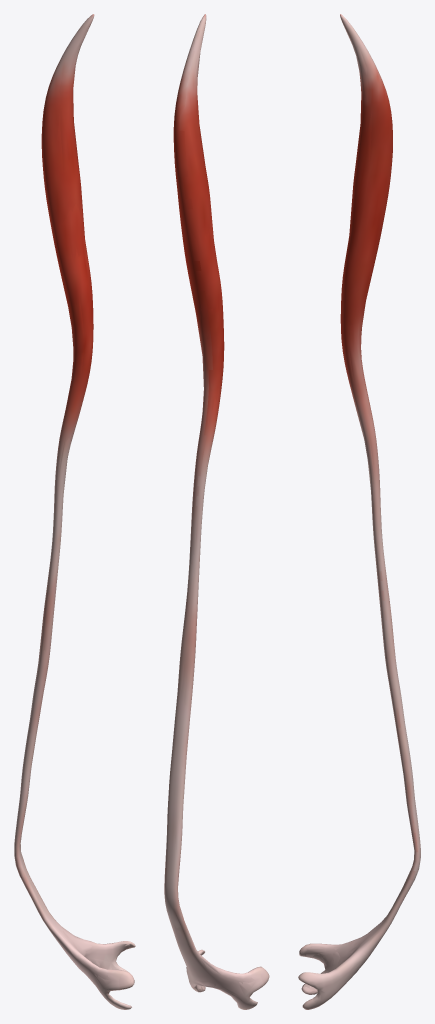
File: R Superficial Digital Flexor.fbx
3 renders of one model, left to right at view 1: azimuth 90°, elevation 25°; view 2: azimuth 150°, elevation 25°; view 3: azimuth 270°, elevation 25°, orthographic.
Parts seen in each view (by area): view 1: R Superficial Digital Flexor, R Superficial Digital Flexor low; view 2: R Superficial Digital Flexor, R Superficial Digital Flexor low; view 3: R Superficial Digital Flexor, R Superficial Digital Flexor low.
Boxes of the visible parts, <box> form: R Superficial Digital Flexor: <box>14,14,135,1009</box>; R Superficial Digital Flexor low: <box>15,25,134,1009</box>; R Superficial Digital Flexor: <box>164,14,269,1009</box>; R Superficial Digital Flexor low: <box>165,30,267,1007</box>; R Superficial Digital Flexor: <box>298,14,420,1009</box>; R Superficial Digital Flexor low: <box>299,17,419,1007</box>.
Size of the model in its own units: 6.58 by 85.44 by 9.57.
